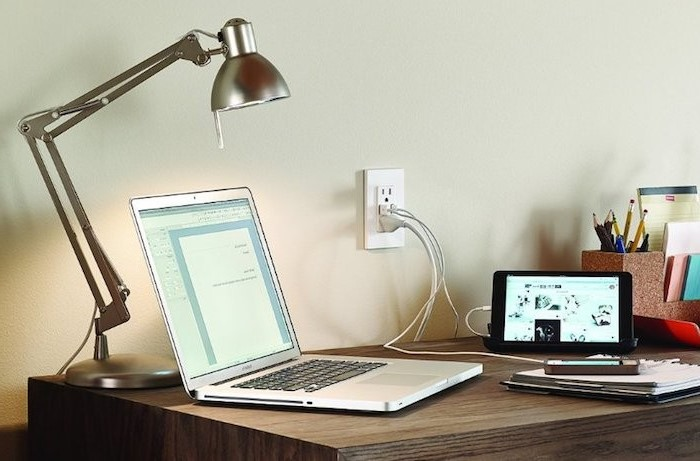outlet: (380, 183, 394, 203)
